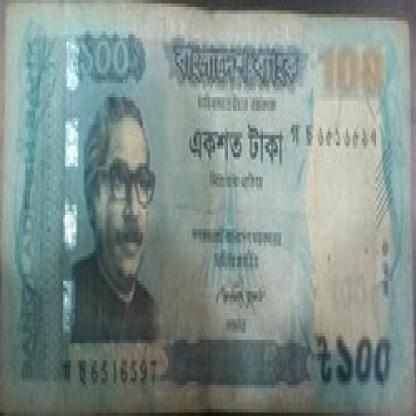one hundred taka: (313, 38, 388, 108), (332, 326, 394, 392), (80, 31, 135, 83)
